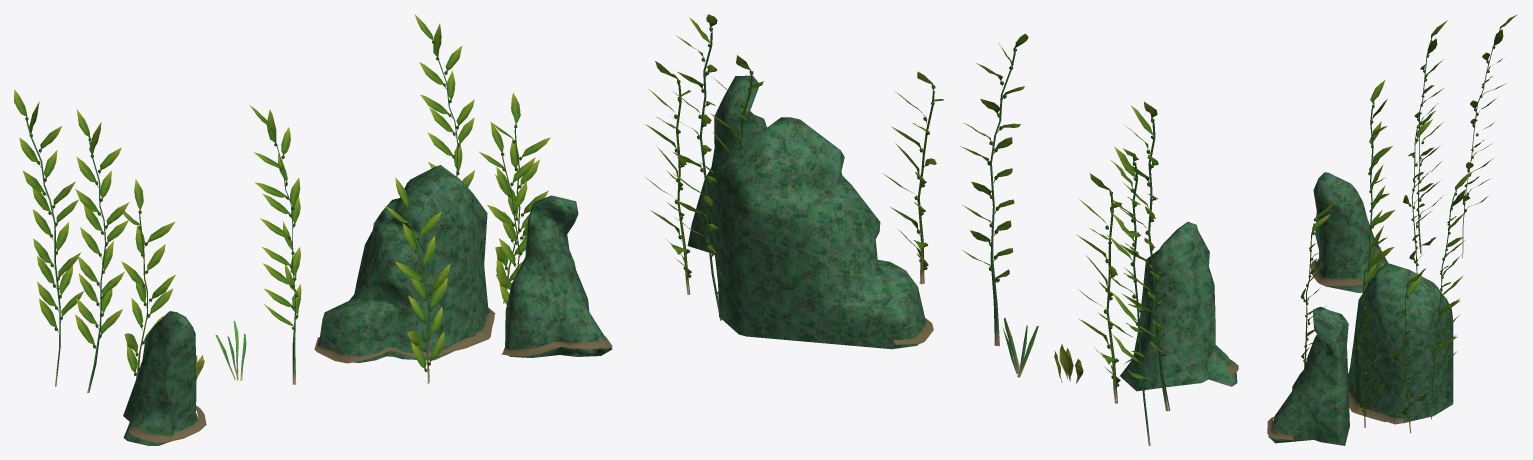
The model's file is kelp-rock.glb.
The picture shows the model from 3 angles, left to right: view 1: azimuth 30°, elevation 25°; view 2: azimuth 150°, elevation 25°; view 3: azimuth 270°, elevation 25°; orthographic projection. The views are drawn at different scales.
Size of the model in its own units: 94.77 by 54.28 by 49.99.
Materials: 3 (3 with a texture image).
